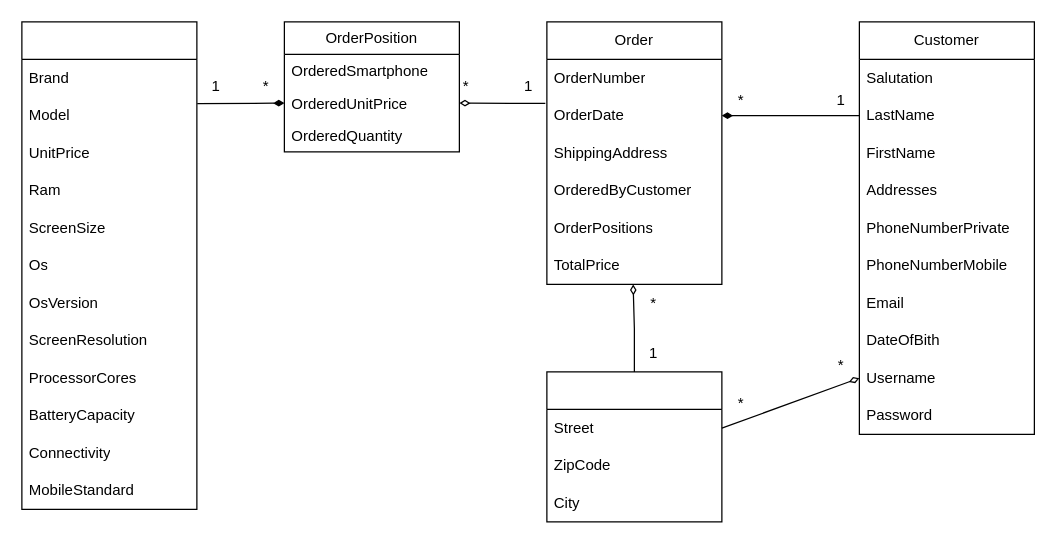
Some shapes in this 1056 by 544 pixel diagram are drawn without their labels. The box of each missing label's shape, as (x1, y1, x2, y2) in pixels:
Address: (546, 371, 722, 522)
Smartphone: (21, 21, 197, 509)
